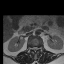CCS_normal: (34, 45, 36, 54)
LFS_stenosis: (38, 46, 39, 50)
LLS_normal: (36, 45, 38, 51)
RFS_normal: (30, 45, 32, 50)
RLS_normal: (32, 46, 34, 52)
